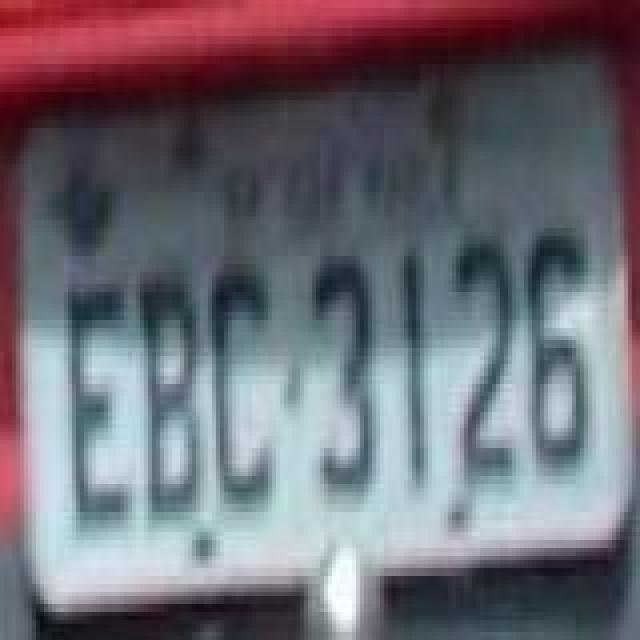1: (402, 248, 430, 504)
2: (456, 238, 520, 482)
3: (310, 252, 378, 508)
6: (528, 228, 592, 484)
B: (136, 272, 200, 528)
C: (206, 264, 274, 512)
E: (64, 276, 128, 524)
